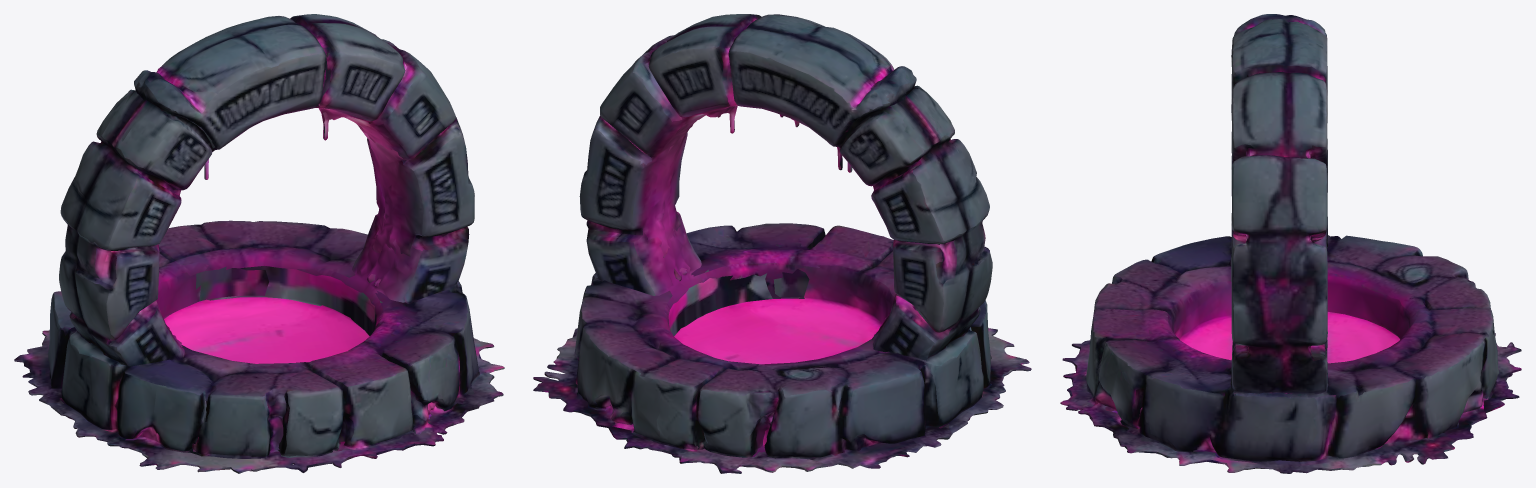
Rendered from hvergelmir-basin-ring-generated-2026-05-17T18-10-36-665Z.low.glb.
3 views of the same model, side by side, from view 1: azimuth 30°, elevation 25°; view 2: azimuth 150°, elevation 25°; view 3: azimuth 270°, elevation 25° (orthographic). The views are drawn at different scales.
Parts seen in each view (by area): view 1: temp_mesh.ply; view 2: temp_mesh.ply; view 3: temp_mesh.ply.
Part boxes in pixels (x1,y1,x2,y2): temp_mesh.ply: [14, 14, 504, 473]; temp_mesh.ply: [533, 14, 1031, 473]; temp_mesh.ply: [1060, 14, 1521, 473].
Bounding box in the file's own units: 1.95 × 1.58 × 1.97.
1 material, 1 textured.
